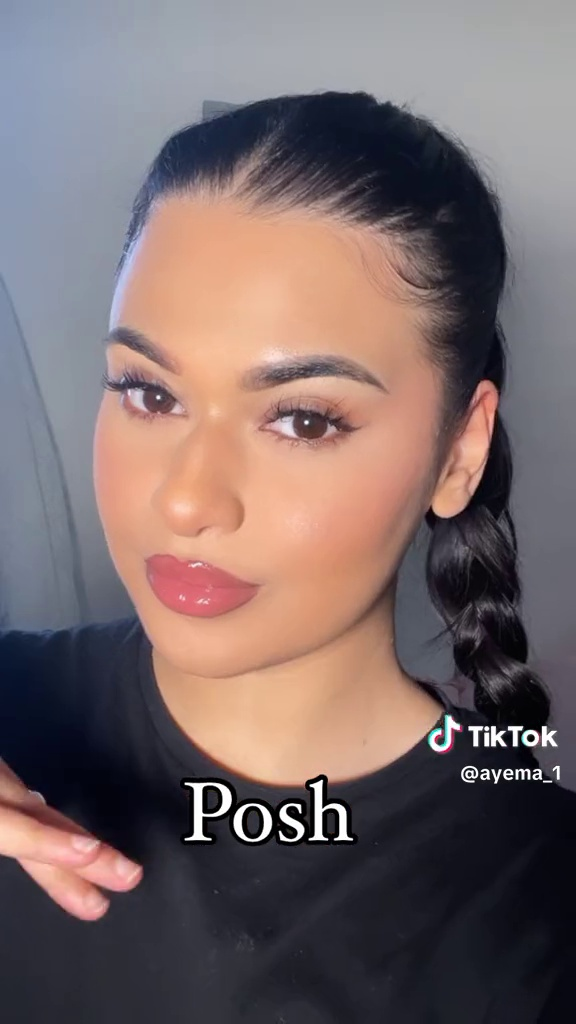train' :'yolo_data/train/images',: (219, 563, 318, 821)
